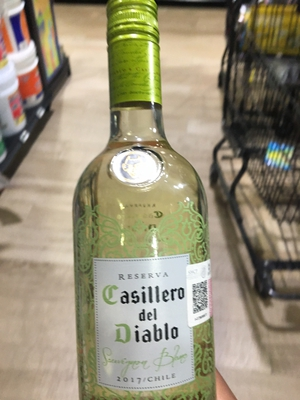casillero del diablo sauvignon blanc: (65, 15, 221, 400)
